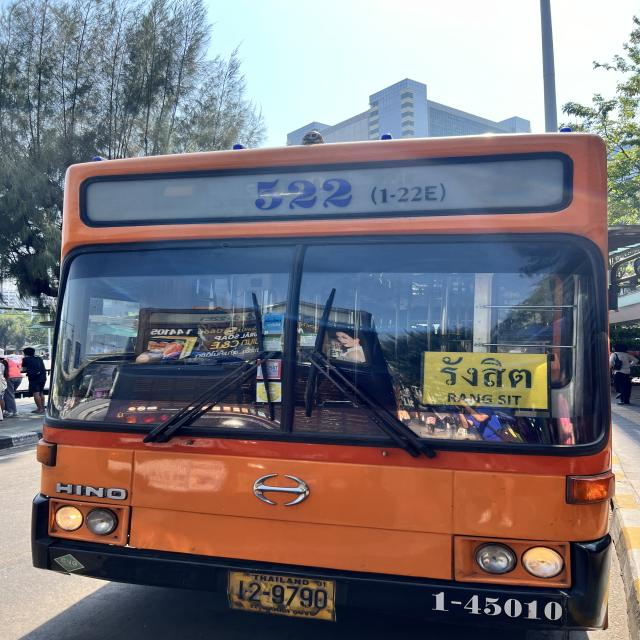BMTA-bus: (29, 128, 621, 640)
Bus-Line-Number: (243, 171, 464, 219)
Destination-Sign-Normal-Expressway: (426, 349, 550, 408)
